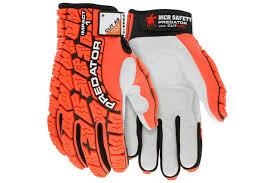gloves: (46, 2, 158, 178), (123, 8, 228, 181)
